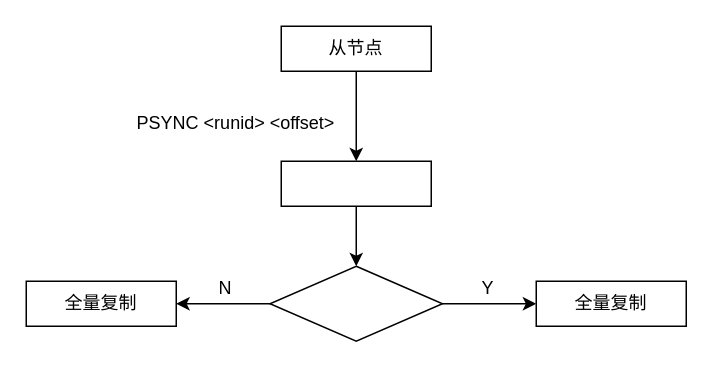
Image size: 713x368. Some labels were removed from this diagram. The centre of each missing label's shape, as x and y in pixels:
主节点: the point at 355,183
返回 +continue？: the point at 355,303
